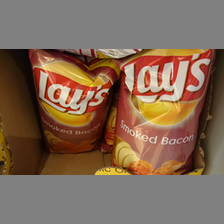chips: (116, 50, 214, 174), (27, 49, 120, 154)
